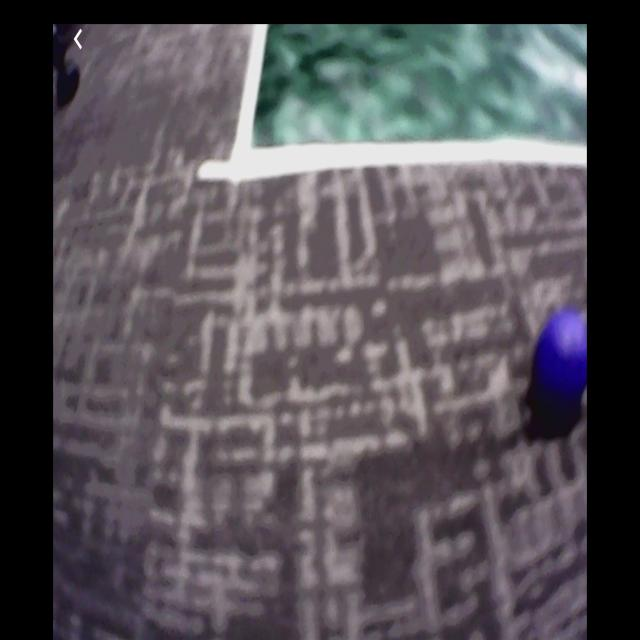ball: (532, 313, 587, 405)
